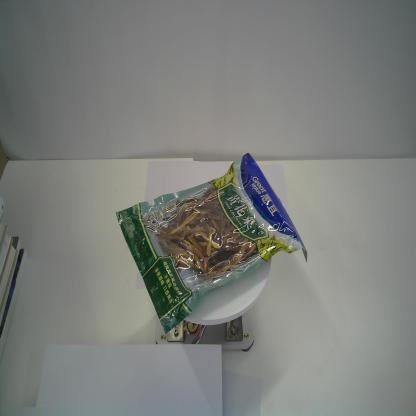Dried Food: (116, 151, 308, 333)
